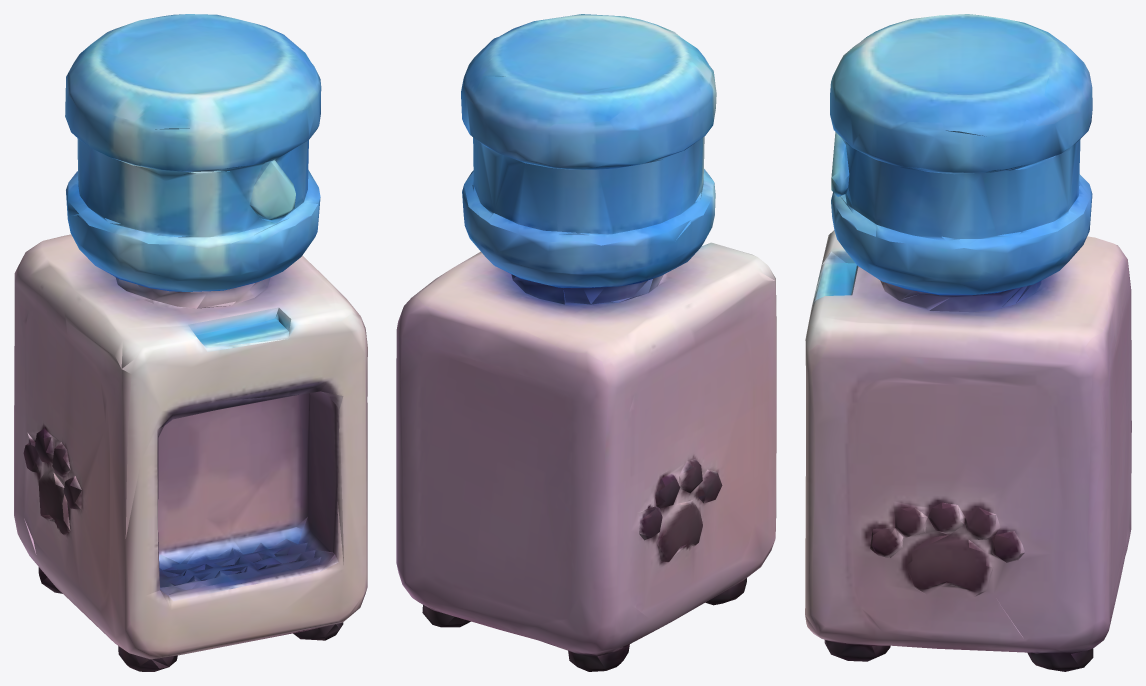
Rendered from appl04.glb.
3 views of the same model, side by side, from view 1: azimuth 30°, elevation 25°; view 2: azimuth 150°, elevation 25°; view 3: azimuth 270°, elevation 25° (orthographic). The views are drawn at different scales.
Bounding box in the file's own units: 0.1582 × 0.3258 × 0.1701.
Materials: 1 (1 with a texture image).
